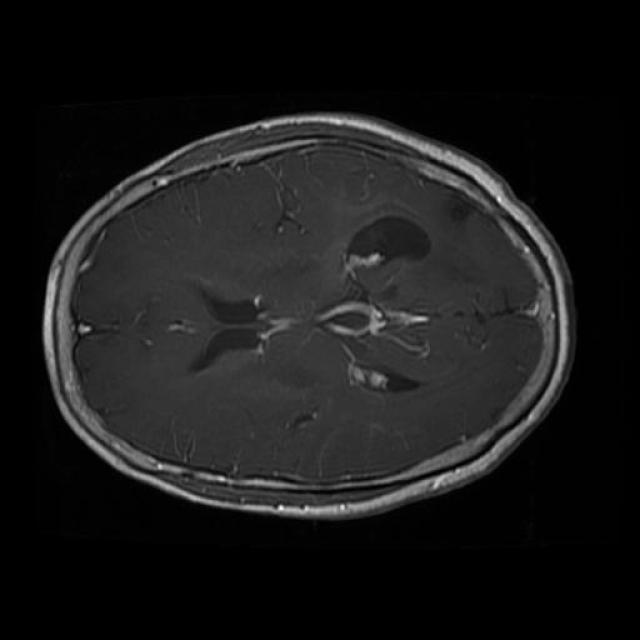Glioma: (345, 215, 430, 277)
